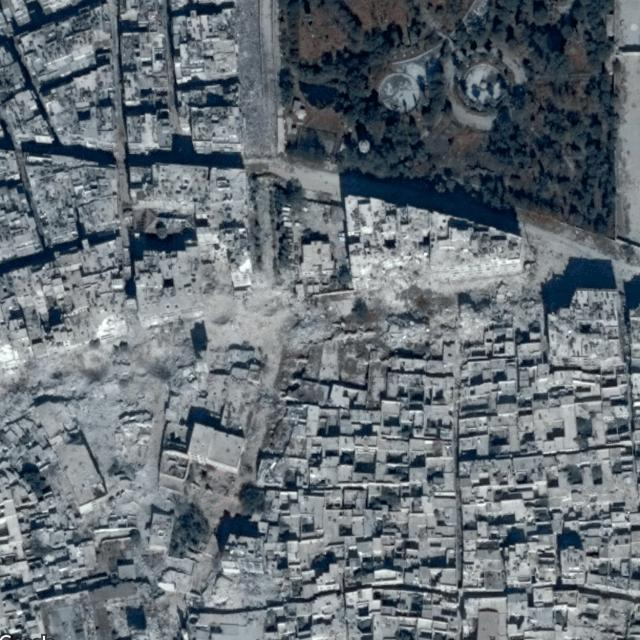damaged_building: (0, 243, 544, 479)
